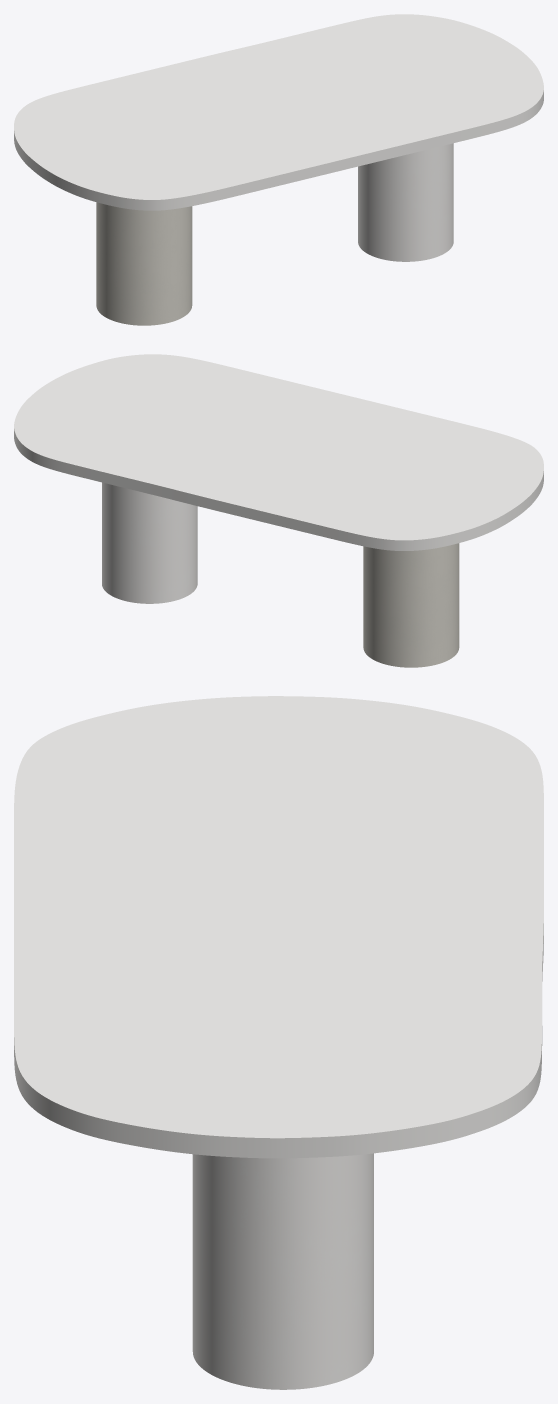
Rendered from purewhite_oval_standard_stream.glb.
3 renders of one model, top to bottom at view 1: azimuth 30°, elevation 25°; view 2: azimuth 150°, elevation 25°; view 3: azimuth 270°, elevation 25°, orthographic. The views are drawn at different scales.
Parts seen in each view (by area): view 1: standard_oval, stream; view 2: standard_oval, stream; view 3: standard_oval, stream.
Boxes of the visible parts, left/top/right/bottom form: standard_oval: left=14, top=14, right=543, bottom=210; stream: left=96, top=143, right=453, bottom=325; standard_oval: left=14, top=354, right=543, bottom=550; stream: left=102, top=482, right=459, bottom=667; standard_oval: left=14, top=696, right=543, bottom=1158; stream: left=192, top=1153, right=373, bottom=1389.
Size of the model in its own units: 7.5 by 2.5 by 3.8.
2 materials, 2 textured.
